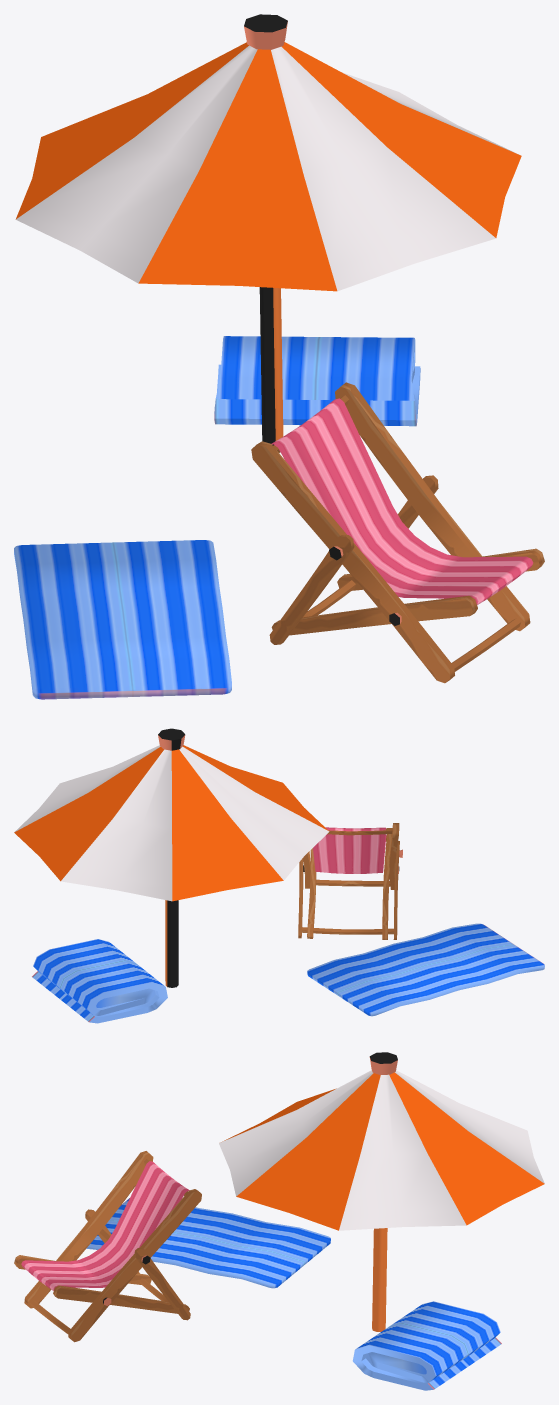
File: prop2.glb
The picture shows the model from 3 angles, top to bottom: view 1: azimuth 30°, elevation 25°; view 2: azimuth 150°, elevation 25°; view 3: azimuth 270°, elevation 25°; orthographic projection. The views are drawn at different scales.
Parts seen in each view (by area): view 1: beach_chair.004_generic_wood.001_0; view 2: beach_chair.004_generic_wood.001_0; view 3: beach_chair.004_generic_wood.001_0.
Boxes of the visible parts, <box> form: beach_chair.004_generic_wood.001_0: <box>14,14,544,699</box>; beach_chair.004_generic_wood.001_0: <box>14,728,544,1023</box>; beach_chair.004_generic_wood.001_0: <box>14,1052,544,1390</box>.
Size of the model in its own units: 5.6 by 3.62 by 6.2.
Materials: 2 (2 with a texture image).
